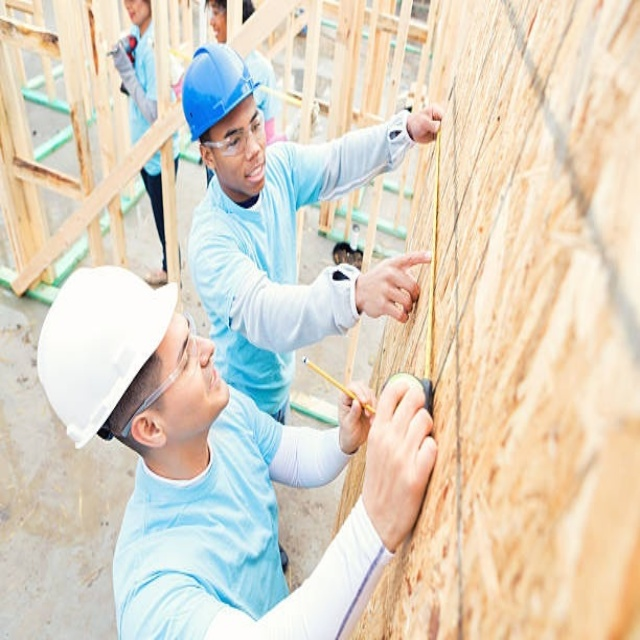Gafas: (145, 304, 198, 406), (202, 108, 266, 158)
Sin_guantes: (362, 375, 440, 550), (360, 248, 434, 323), (337, 378, 377, 457), (405, 103, 444, 145)
Sin_mascara: (192, 348, 232, 411), (241, 157, 268, 195)
